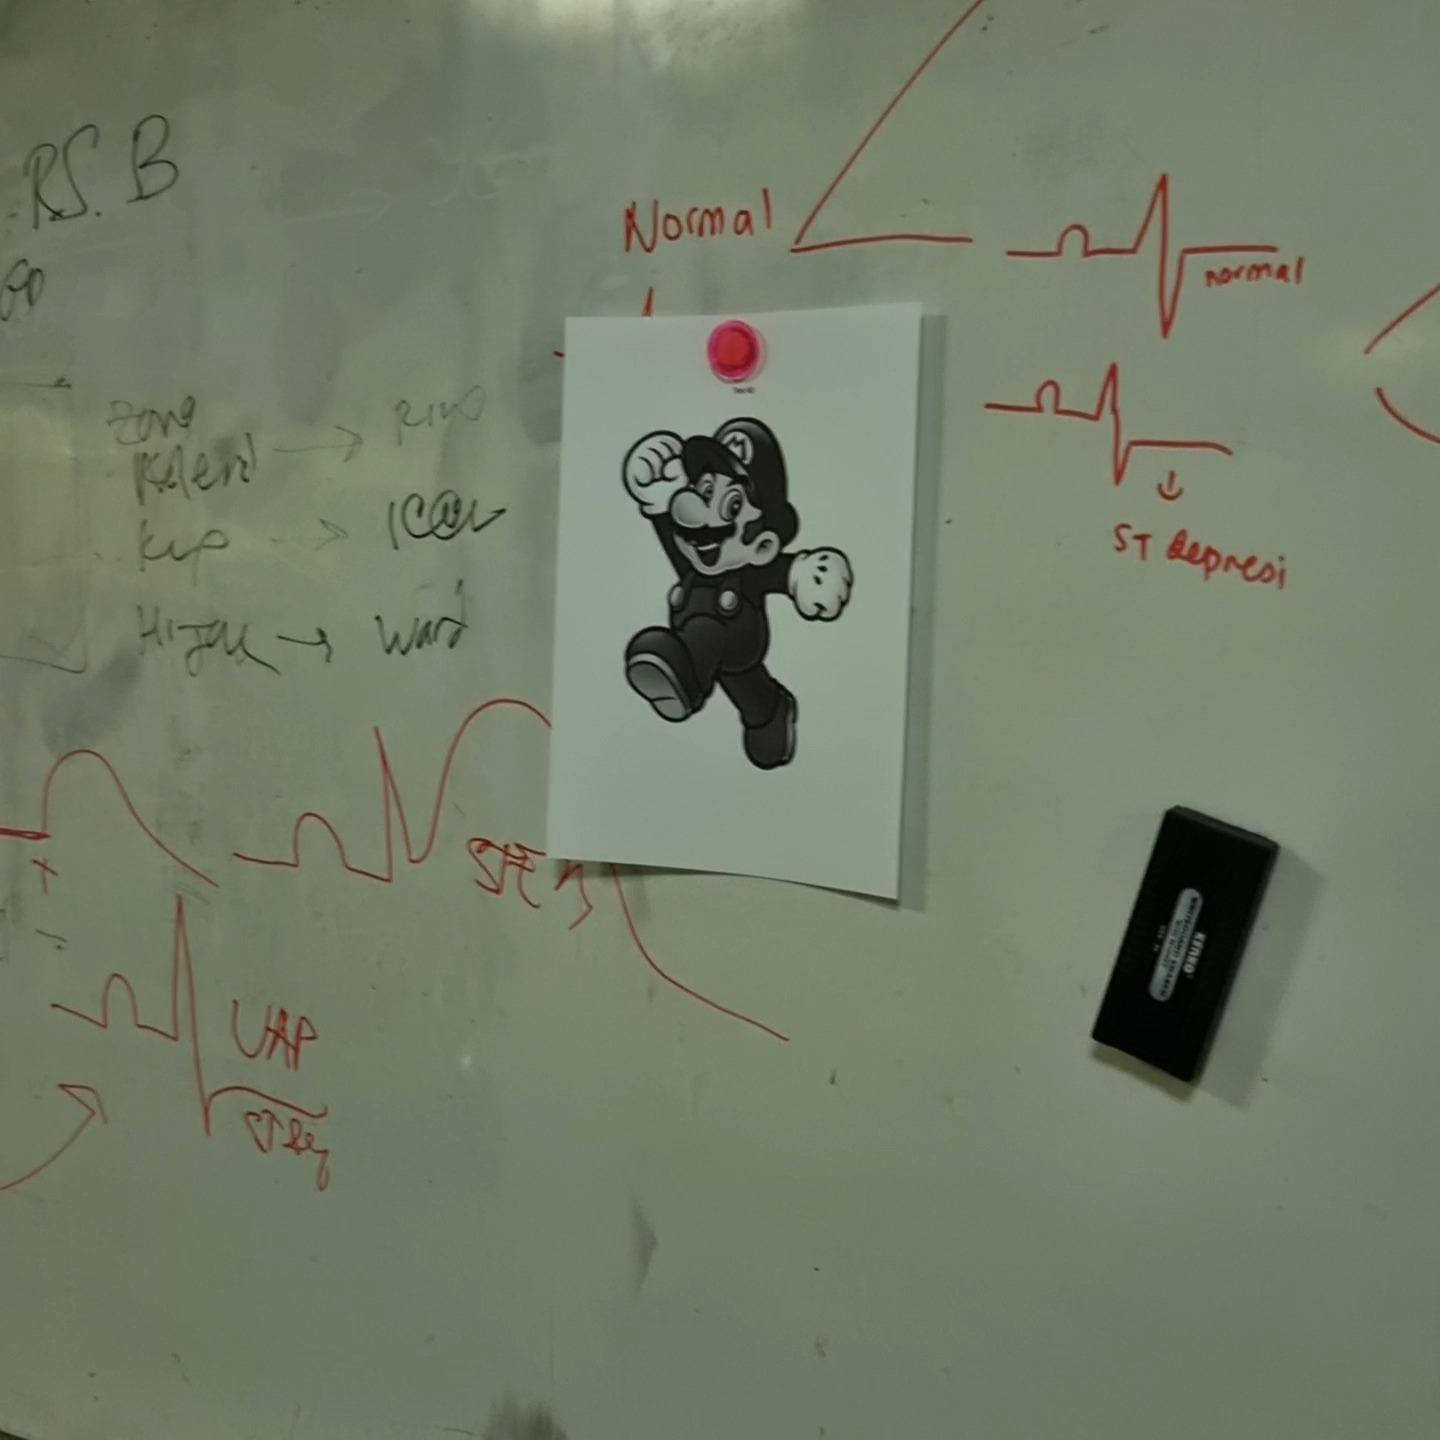mario: (612, 402, 864, 782)
